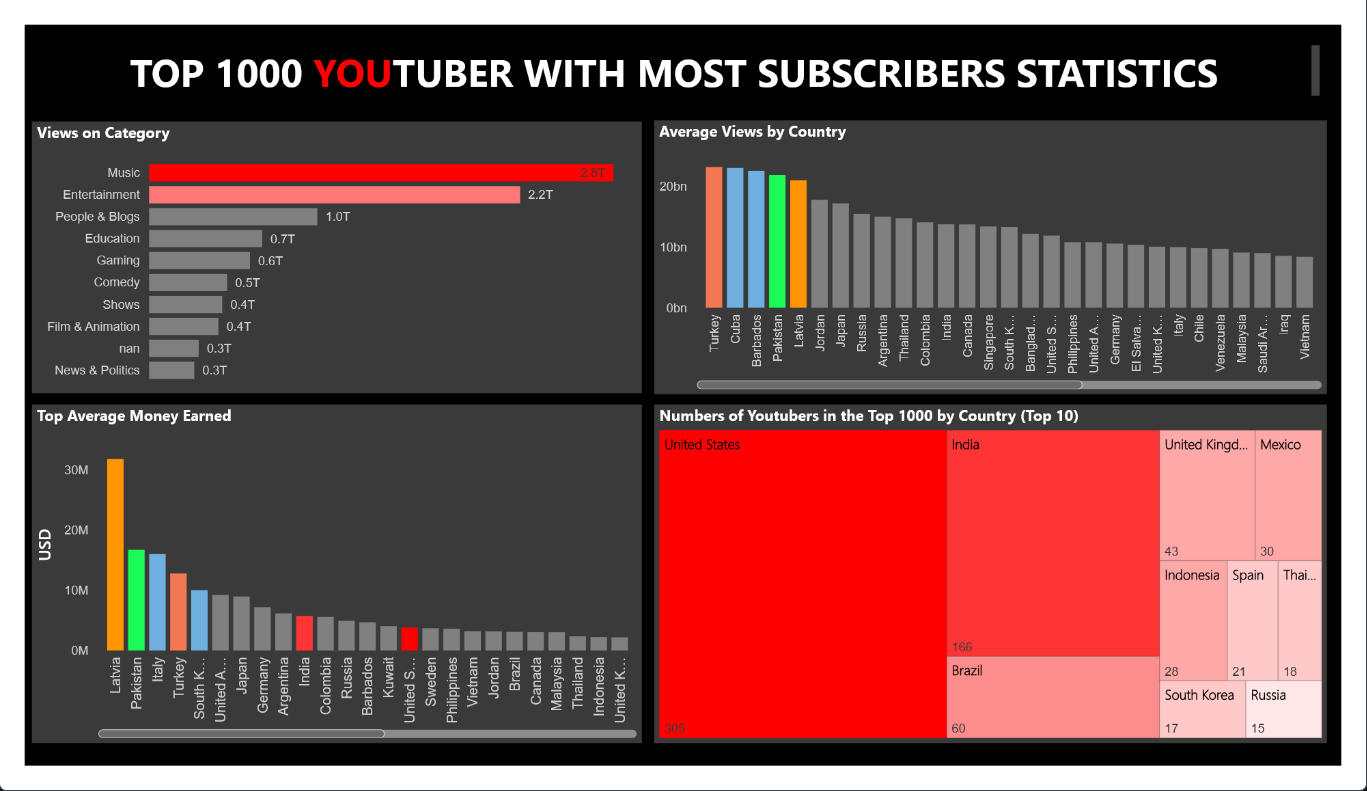

The dashboard page shown, as its layout file describes it:
{"tool":"powerbi","page":{"name":"Page 1","canvas":[1280,720],"ordinal":0},"visuals":[{"type":"treemap","title":"Numbers of Youtubers in the Top 1000 by Country (Top 10) ","fields":{"Group":["countries with most amount of youtubers.Country"],"Values":["Sum(countries with most amount of youtubers.percentage_of_total)"],"Details":["countries with most amount of youtubers.number_of_Ytbers"]},"box":[611.6,369.3,653.9,328.9],"z":0},{"type":"textbox","box":[6.7,13.5,1256.9,67.3],"z":1000},{"type":"clusteredColumnChart","title":"Top Average Money Earned","fields":{"Category":["country with most view_subs_money.Country"],"Y":["Sum(country with most view_subs_money.avg_earnings)"]},"box":[7,369.3,592.7,329.1],"z":2000},{"type":"clusteredBarChart","title":"Views on Category","fields":{"Category":["best category ahhh.category"],"Y":["Sum(best category ahhh.total_views)"]},"box":[7,93.6,592.7,264.7],"z":3000},{"type":"clusteredColumnChart","title":"Average Views by Country","fields":{"Category":["country with most view_subs_money.Country"],"Y":["Sum(country with most view_subs_money.avg_views)"]},"box":[611.6,93.3,653.9,265.4],"z":4000}]}

Visuals, with their boxes in screenshot pixels (x1, y1, x2, y2), scaled from the page's 1280x720 canvas onto the 1367x791 screenshot:
"Numbers of Youtubers in the Top 1000 by Country (Top 10) " treemap: l=653, t=406, r=1352, b=767
textbox: l=7, t=15, r=1349, b=89
"Top Average Money Earned" clusteredColumnChart: l=7, t=406, r=640, b=767
"Views on Category" clusteredBarChart: l=7, t=103, r=640, b=394
"Average Views by Country" clusteredColumnChart: l=653, t=103, r=1352, b=394
